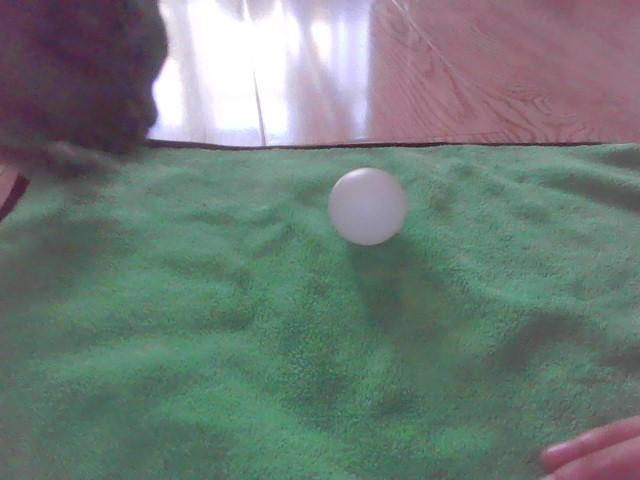ball: (327, 171, 408, 245)
